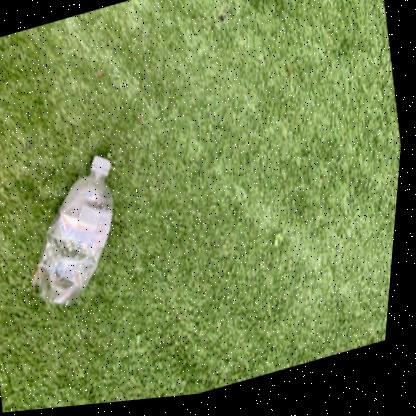Plastic: (36, 157, 115, 307)
